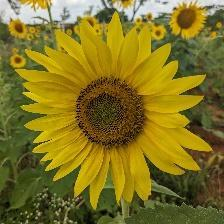sunflower: (17, 11, 215, 213), (169, 4, 210, 42), (8, 19, 29, 38), (24, 1, 57, 11), (109, 1, 136, 12), (10, 55, 27, 69), (85, 15, 100, 30), (153, 26, 166, 41), (57, 41, 69, 56), (93, 25, 104, 38), (135, 16, 144, 27), (146, 13, 155, 23), (216, 22, 224, 31), (66, 29, 75, 37), (135, 26, 143, 34), (29, 27, 36, 34), (35, 33, 42, 39), (28, 35, 35, 41)
